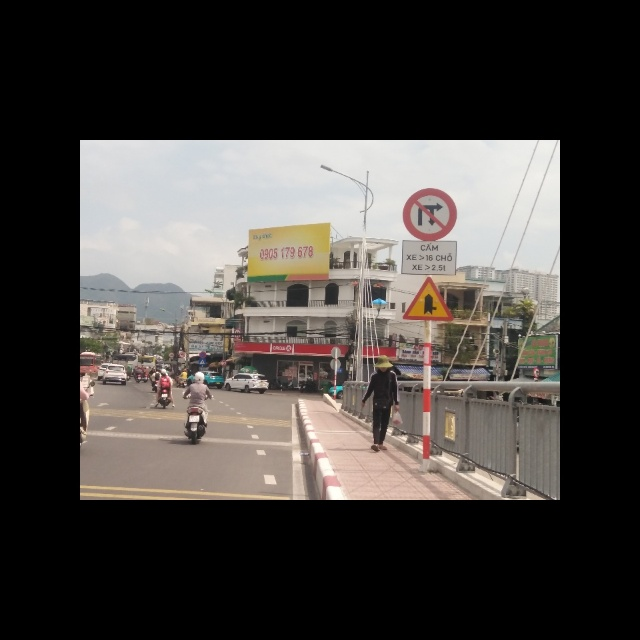Cấm quay đầu và rẽ phải: (404, 188, 458, 240)
Giao nhau với đường không ưu tiên: (402, 277, 454, 322)
